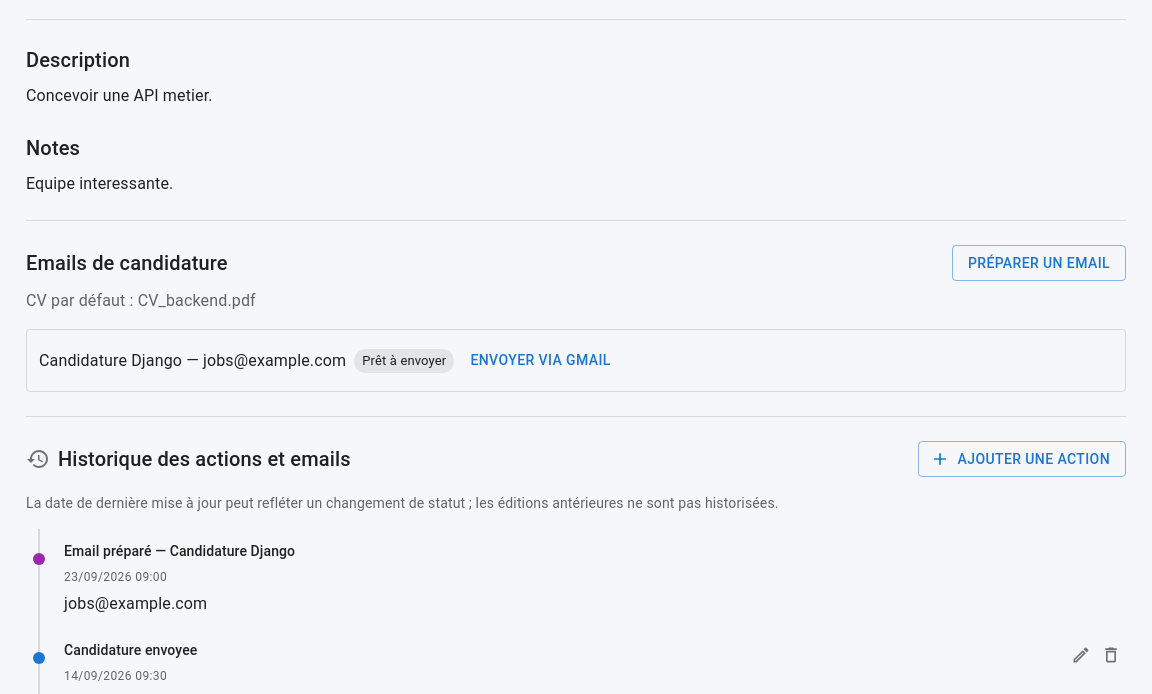
Test: a server validation error before reservation keeps ready with its explanation
The width and height of the screenshot is (1152, 694).
(page scrolled)
Click the button with aria-label "Envoyer l’email Candidature Django". click: click(541, 361)
box: top-left (462, 342), bottom-right (619, 379)
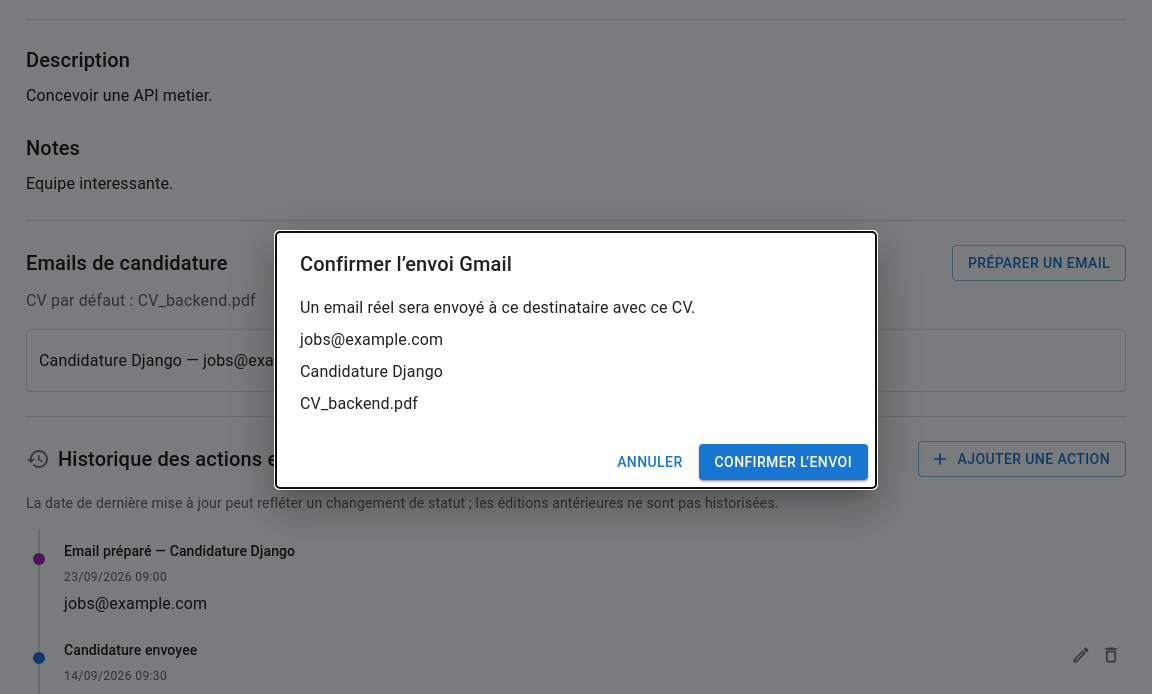
Click the button "Confirmer l’envoi". click: click(783, 462)
box: top-left (698, 444), bottom-right (868, 480)
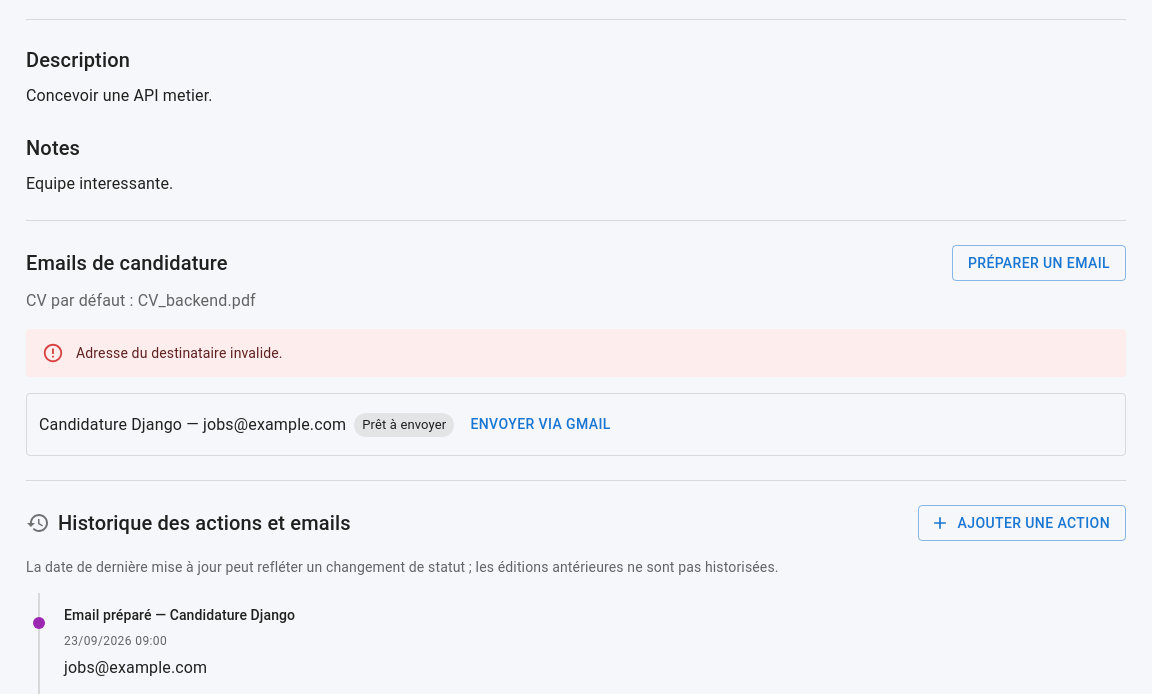
Result: the text "Adresse du destinataire invalide." is shown at top-left (76, 345), bottom-right (283, 361)
Result: the heading "Confirmer l’envoi Gmail" is gone
Click the button with aria-label "Envoyer l’email Candidature Django". click: click(541, 425)
box: top-left (462, 406), bottom-right (619, 443)
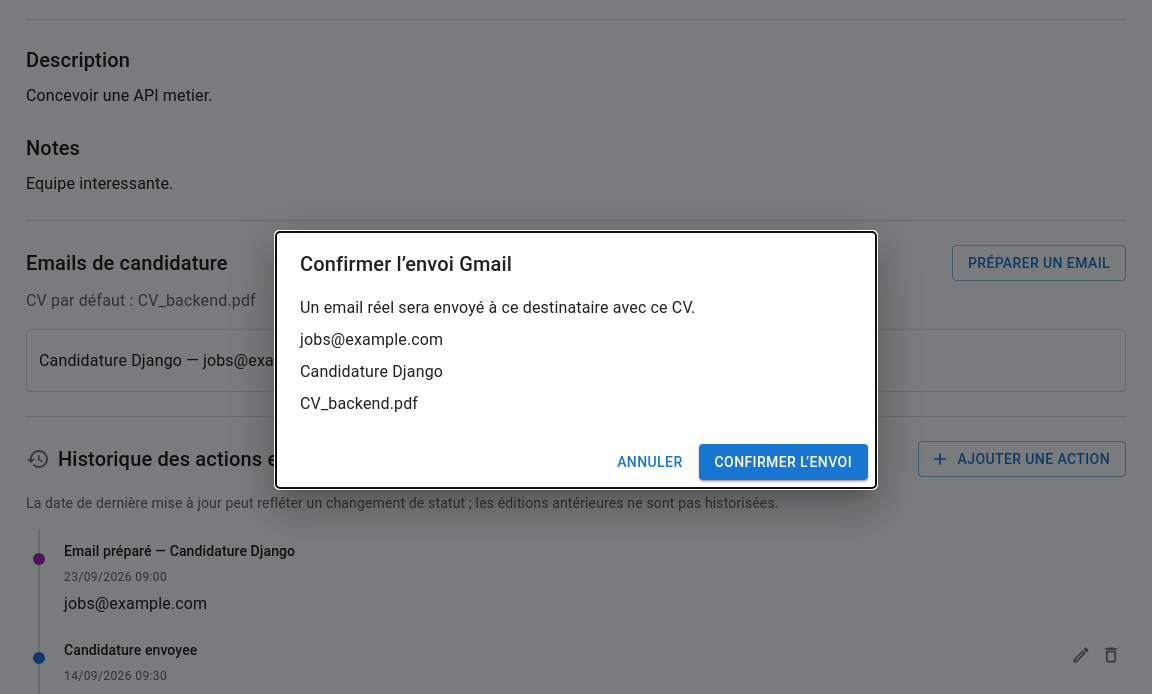
Result: the dialog "Confirmer l’envoi Gmail" is shown at top-left (276, 232), bottom-right (876, 488)
